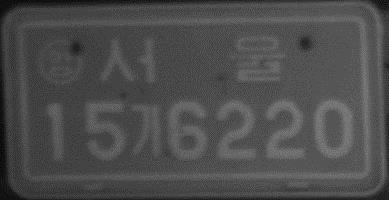0: (312, 98, 354, 159)
1: (44, 100, 71, 169)
2: (263, 97, 310, 162), (216, 99, 258, 162)
5: (81, 98, 129, 163)
6: (169, 98, 209, 166)
가: (129, 100, 167, 162)
서울_D: (97, 31, 290, 88)
영: (37, 37, 85, 86)
